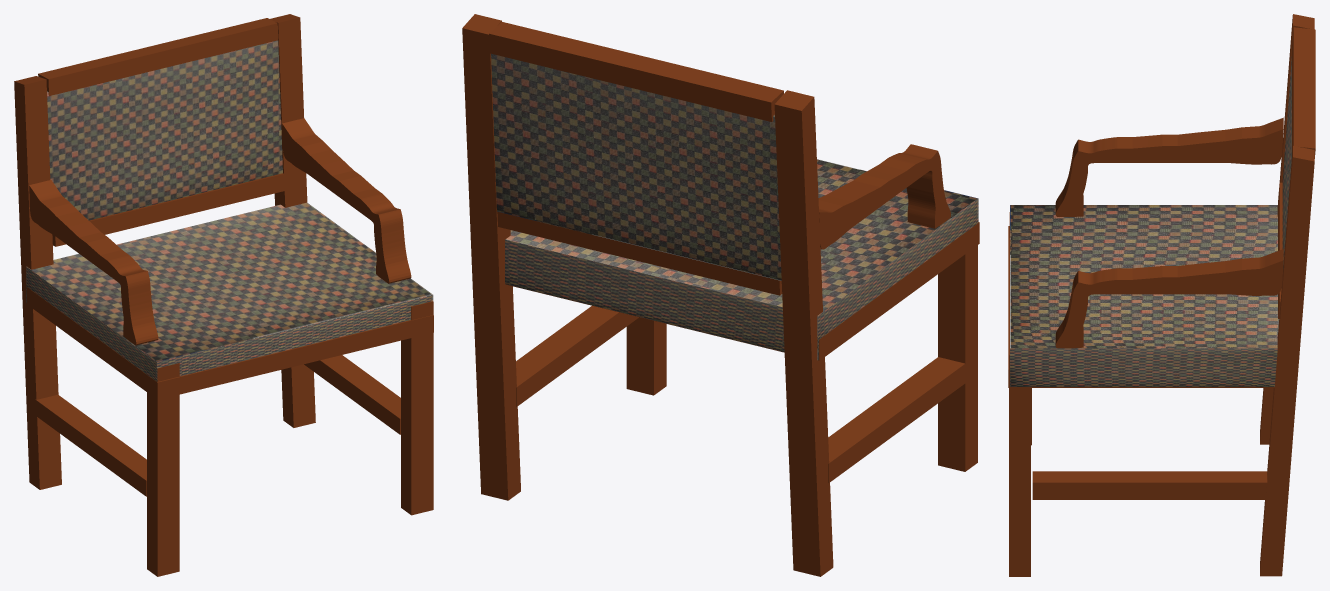
The model's file is woodchair.dae.
3 views of the same model, side by side, from view 1: azimuth 30°, elevation 25°; view 2: azimuth 150°, elevation 25°; view 3: azimuth 270°, elevation 25° (orthographic). The views are drawn at different scales.
Visible parts, largest first — view 1: node; view 2: node; view 3: node.
Part boxes in pixels (box(x1,y1,x2,y2)): node: box(14, 14, 433, 576); node: box(462, 14, 979, 576); node: box(1008, 14, 1315, 576).
Bounding box in the file's own units: 0.6356 × 0.867 × 0.5753.
Materials: 2 (2 with a texture image).
